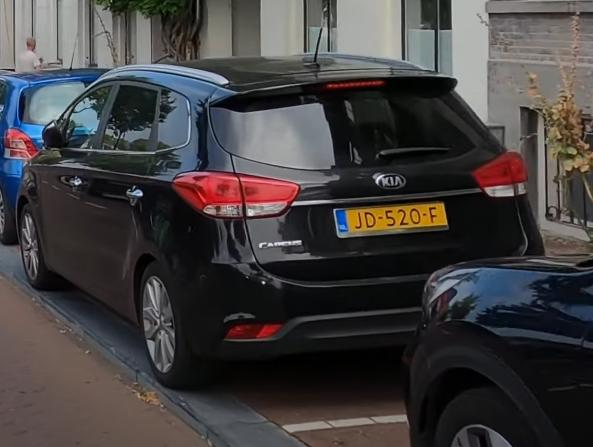license-plate: (333, 200, 455, 240)
